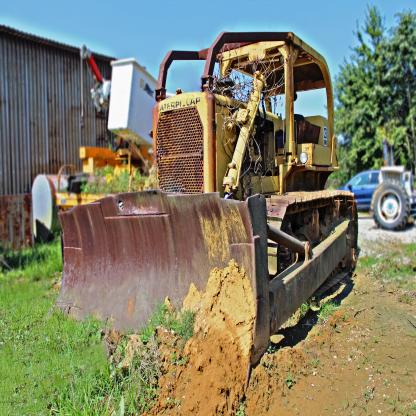bull_dozer/loader/grader: (47, 29, 376, 382)
